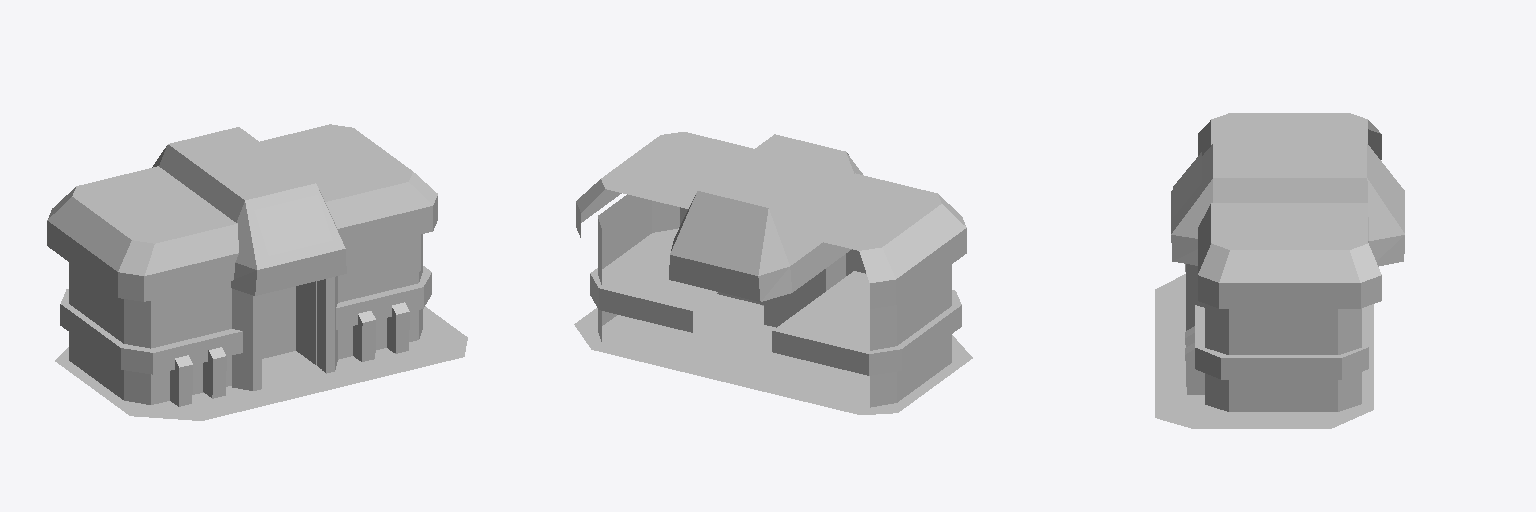
Rendered from Celadon Gym.obj.
3 renders of one model, left to right at view 1: azimuth 30°, elevation 25°; view 2: azimuth 150°, elevation 25°; view 3: azimuth 270°, elevation 25°, orthographic.
Visible parts, largest first — view 1: polygon6, polygon5, polygon4, polygon1, polygon2, polygon3, polygon0; view 2: polygon6, polygon4, polygon1, polygon5, polygon0, polygon3; view 3: polygon6, polygon5, polygon1, polygon4, polygon0, polygon3, polygon2.
Boxes of the visible parts, box(x1,y1,x2,y2) form: polygon6: box(47, 124, 437, 406); polygon5: box(69, 234, 422, 404); polygon4: box(60, 266, 431, 384); polygon1: box(55, 306, 467, 420); polygon2: box(153, 195, 420, 335); polygon3: box(228, 177, 346, 295); polygon0: box(111, 142, 373, 225); polygon6: box(576, 132, 966, 308); polygon4: box(590, 228, 961, 375); polygon1: box(574, 294, 972, 414); polygon5: box(598, 194, 951, 407); polygon0: box(640, 149, 902, 232); polygon3: box(766, 134, 862, 179); polygon6: box(1185, 113, 1404, 394); polygon5: box(1186, 264, 1361, 411); polygon1: box(1155, 274, 1373, 428); polygon4: box(1183, 305, 1368, 379); polygon0: box(1244, 125, 1335, 237); polygon3: box(1171, 144, 1229, 265); polygon2: box(1173, 152, 1201, 216).
Size of the model in its own units: 118 by 60.53 by 75.78.